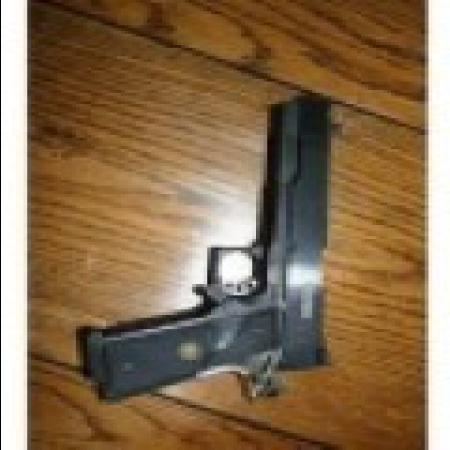Pistol: (75, 90, 345, 402)
